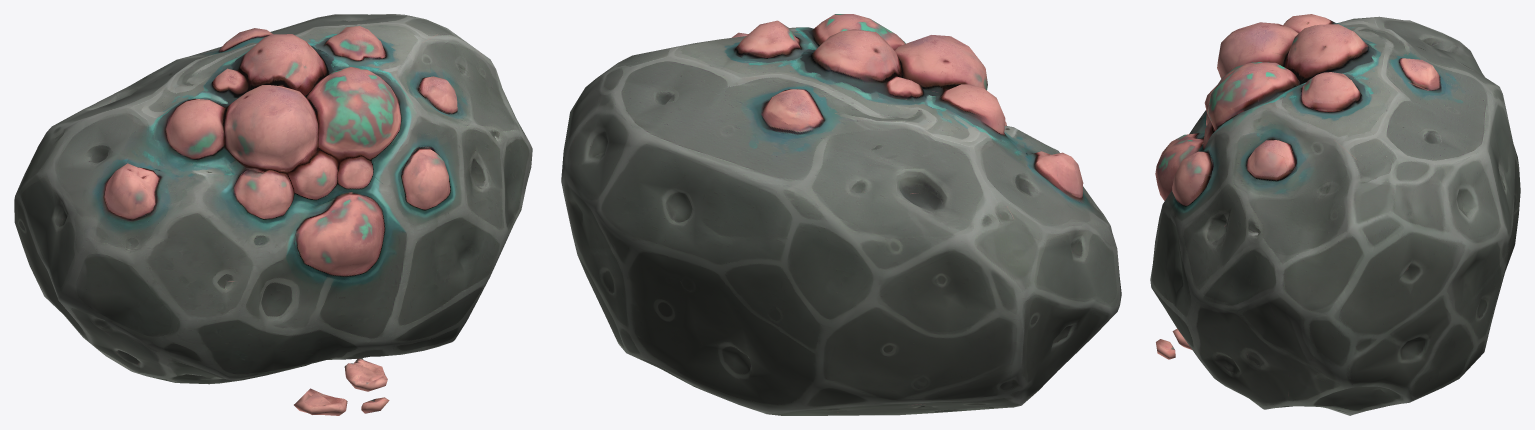
The picture shows the model from 3 angles, left to right: view 1: azimuth 30°, elevation 25°; view 2: azimuth 150°, elevation 25°; view 3: azimuth 270°, elevation 25°; orthographic projection. The views are drawn at different scales.
Visible parts, largest first — view 1: Mesh_0; view 2: Mesh_0; view 3: Mesh_0.
Part boxes in pixels (x1,y1,x2,y2): Mesh_0: (14,14,532,415); Mesh_0: (561,14,1121,415); Mesh_0: (1150,14,1520,415).
Bounding box in the file's own units: 1.91 × 1.25 × 1.27.
Materials: 1 (1 with a texture image).
